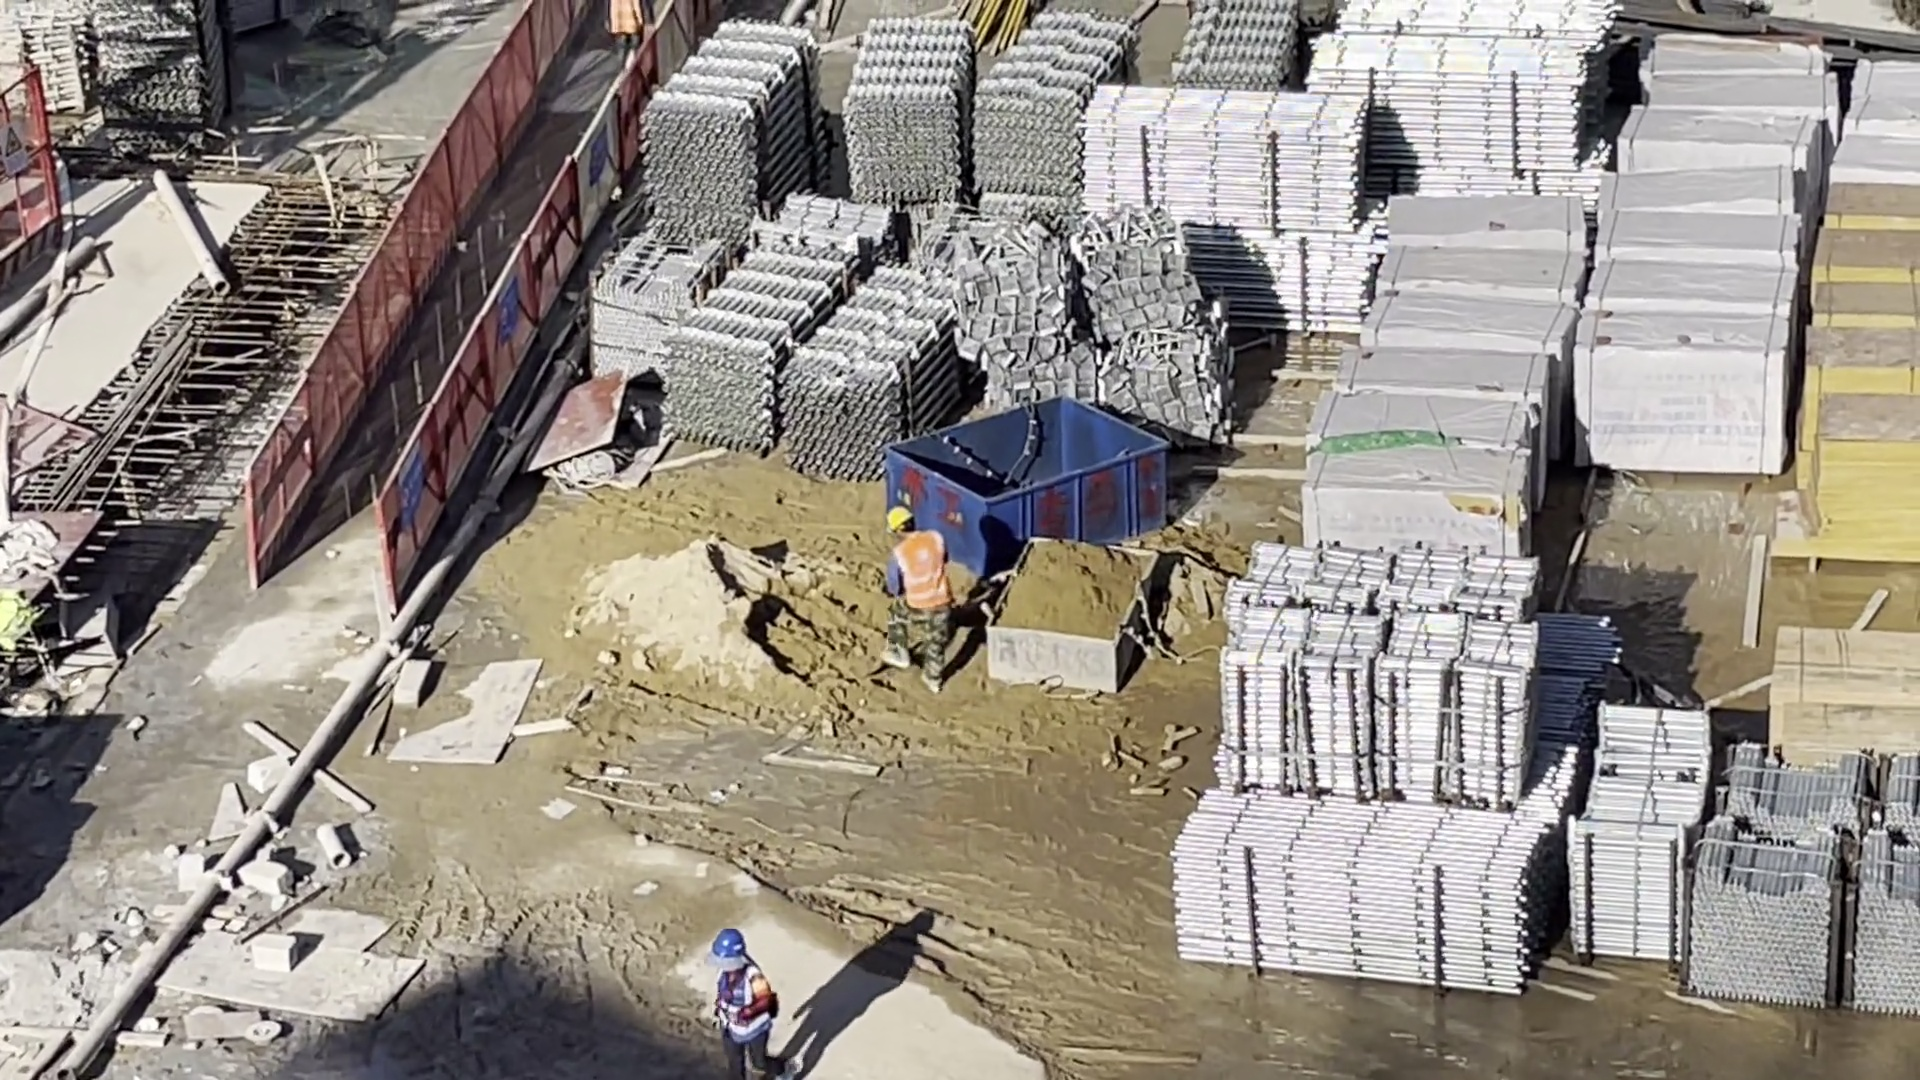board: (1805, 177, 1920, 570), (1767, 636, 1920, 741)
fence: (252, 11, 652, 570)
helmet: (712, 928, 746, 957), (887, 508, 912, 531)
hopper: (888, 395, 1169, 568), (989, 537, 1158, 692)
person: (878, 508, 954, 697), (708, 934, 785, 1080), (600, 1, 650, 65)
scaffold: (1223, 542, 1538, 804), (1173, 796, 1561, 992), (1085, 85, 1373, 333), (666, 254, 965, 472), (1697, 745, 1919, 1016), (847, 20, 1121, 207), (1311, 1, 1620, 165), (640, 19, 808, 235), (1581, 695, 1698, 962), (92, 3, 233, 150), (1181, 1, 1297, 92), (6, 7, 86, 120)
slogan: (494, 272, 520, 347), (401, 450, 423, 533)
vest: (896, 529, 947, 616), (721, 976, 762, 1045), (604, 1, 643, 41)
